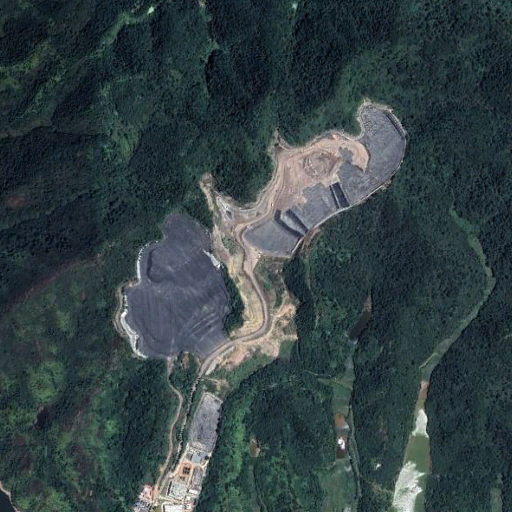lf: (103, 95, 411, 387)
